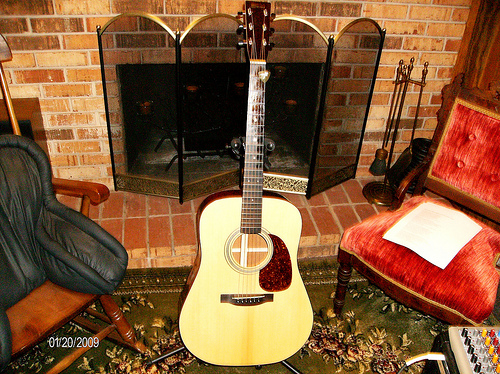guitar: (177, 1, 316, 367)
